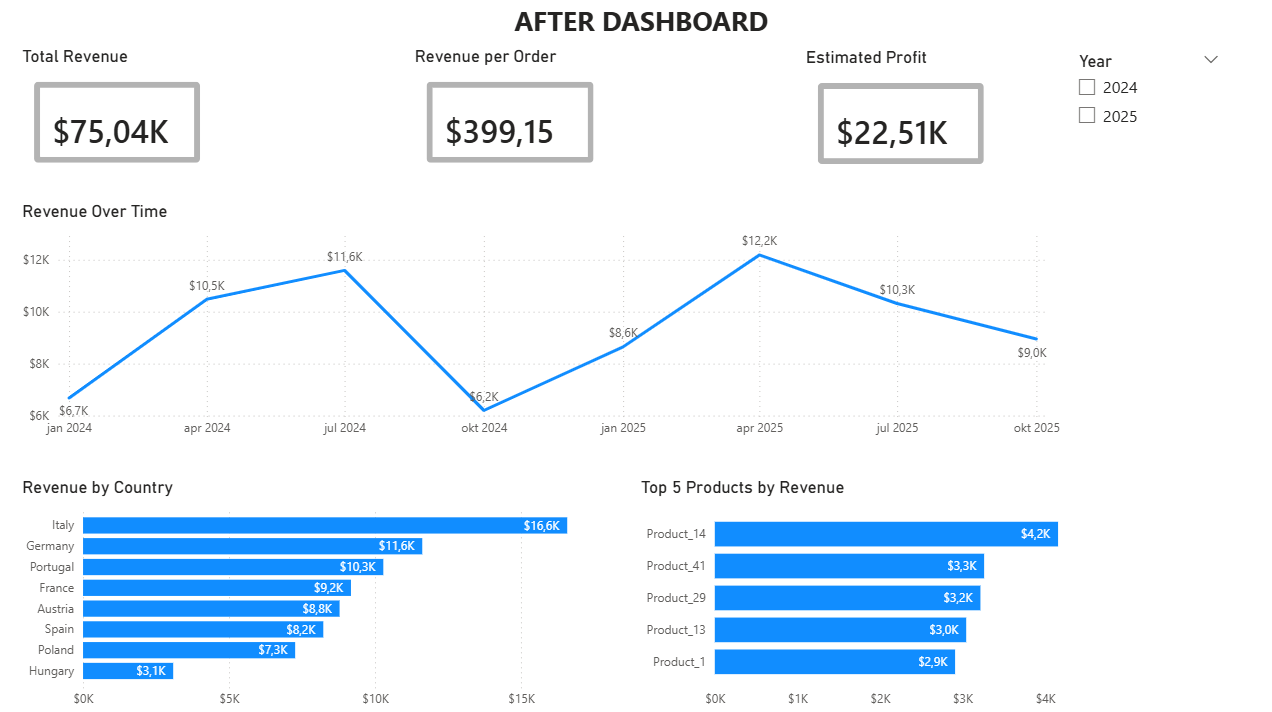

This screenshot's page, from the dashboard's own definition file:
{"tool":"powerbi","page":{"name":"After Dashboard","canvas":[1280,720],"ordinal":1},"visuals":[{"type":"textbox","box":[10,0,1270,48.4],"z":0},{"type":"cardVisual","title":"Total Revenue","fields":{"Data":["Order_items.Total Revenue"]},"box":[21.7,48.3,200,135],"z":1000},{"type":"lineChart","title":"Revenue Over Time","fields":{"Category":["Orders.order_date.Variation.Date Hierarchy.Year","Orders.order_date.Variation.Date Hierarchy.Quarter"],"Y":["Sum(Order_items.revenue)"]},"box":[21.7,203.3,1048.3,245],"z":8000},{"type":"slicer","fields":{"Values":["Orders.order_date.Variation.Date Hierarchy.Year"]},"box":[1070,48.3,165,135],"z":12000},{"type":"cardVisual","title":"Revenue per Order","fields":{"Data":["Order_items.Revenue per Order"]},"box":[413.3,48.3,201.7,135],"z":16001},{"type":"cardVisual","title":"Estimated Profit","fields":{"Data":["Order_items.Estimated Profit"]},"box":[805,50,200,135],"z":16002},{"type":"barChart","title":"Revenue by Country","fields":{"Category":["Customers.country"],"Y":["Sum(Order_items.revenue)"]},"box":[21.7,480,618.3,240],"z":16003},{"type":"barChart","title":"Top 5 Products by Revenue","fields":{"Category":["Products.product_name"],"Y":["Sum(Order_items.revenue)"]},"box":[640,480,483.3,240],"z":16004}]}

Visuals, with their boxes in screenshot pixels (x1, y1, x2, y2), scaled from the page's 1280x720 canvas onto the 1272x712 screenshot:
textbox: 10/0/1271/48
"Total Revenue" cardVisual: 22/48/220/181
"Revenue Over Time" lineChart: 22/201/1063/443
slicer - Orders.order_date.Variation.Date Hierarchy.Year: 1063/48/1227/181
"Revenue per Order" cardVisual: 411/48/611/181
"Estimated Profit" cardVisual: 800/49/999/183
"Revenue by Country" barChart: 22/475/636/711
"Top 5 Products by Revenue" barChart: 636/475/1116/711
